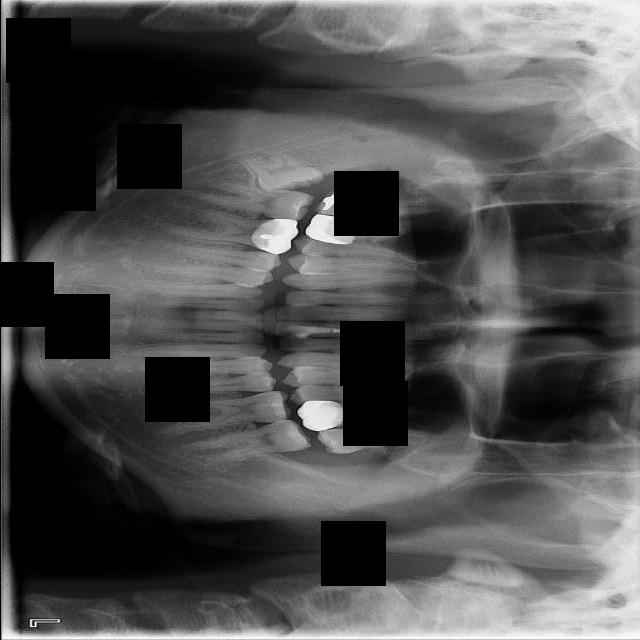52: (262, 409, 315, 458), (261, 189, 315, 223), (250, 218, 298, 254), (292, 397, 336, 434), (253, 389, 295, 426), (302, 212, 349, 245), (311, 189, 356, 216), (273, 320, 322, 338)
73: (329, 401, 429, 432), (327, 209, 408, 246), (318, 322, 397, 337), (62, 548, 72, 552)
BioHorizons Implant: (314, 426, 429, 455)
Blue Sky Bio Implant: (189, 415, 314, 466)
Caries: (309, 187, 444, 225)
Implant: (199, 178, 315, 225)
Keystone Dental Implant: (240, 138, 326, 200)
